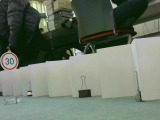speed_30: (1, 50, 21, 72)
